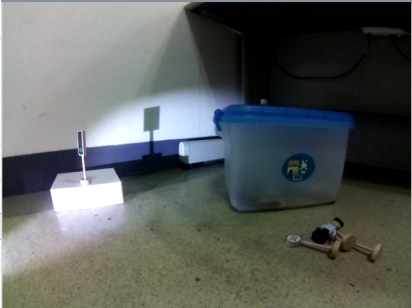Green: (76, 129, 88, 160)
